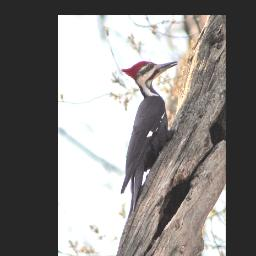Woodpecker: (119, 61, 180, 216)
